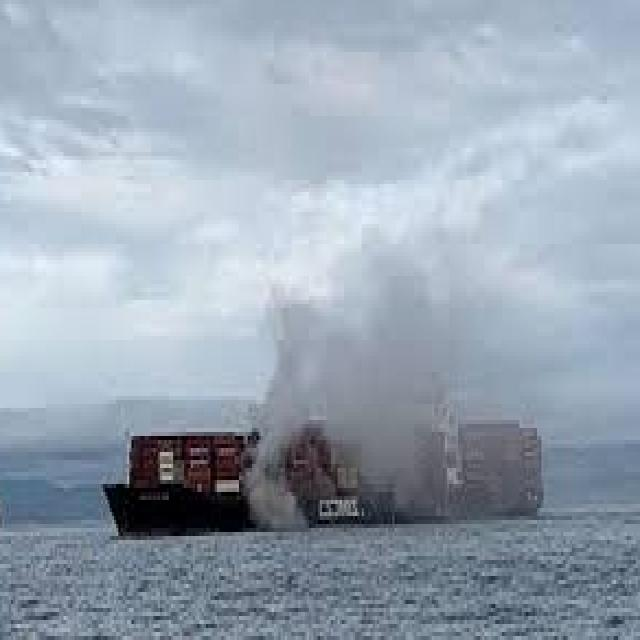cargoship: (112, 378, 540, 535)
